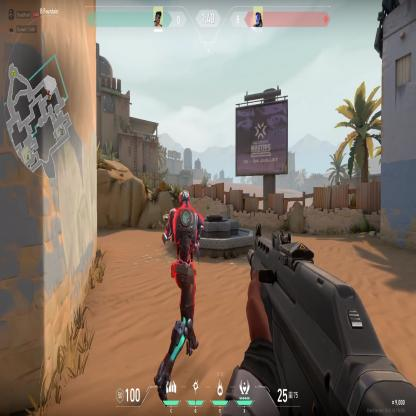enemy: (154, 186, 206, 378)
